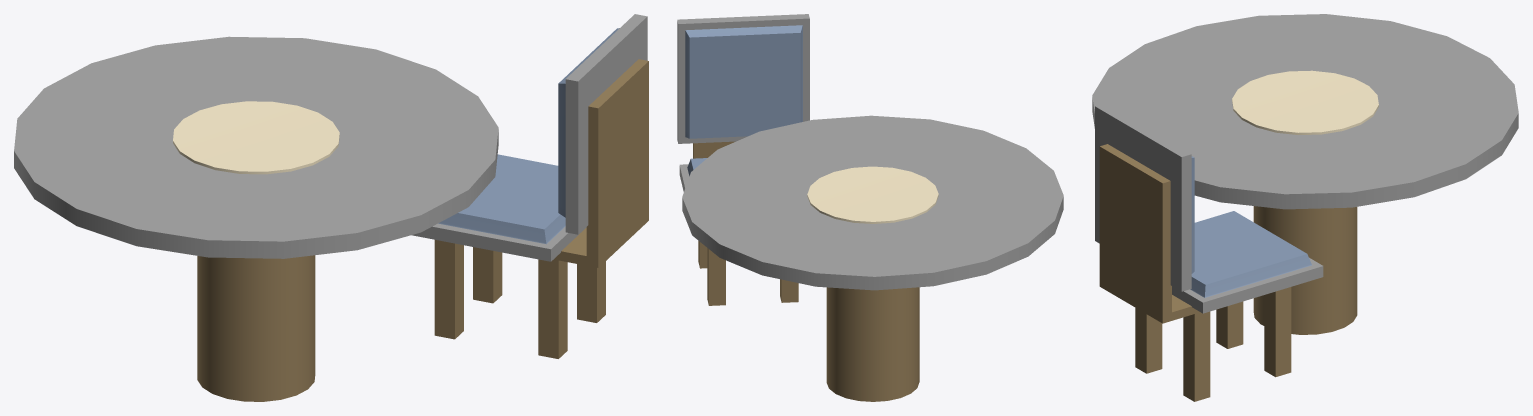
File: M_Silla Comedor.fbx
3 renders of one model, left to right at view 1: azimuth 30°, elevation 25°; view 2: azimuth 150°, elevation 25°; view 3: azimuth 270°, elevation 25°, orthographic. The views are drawn at different scales.
Parts seen in each view (by area): view 1: pCylinder5, pCube38, pCube36, Silla_comedor1, pCube41, pCube42, pCube40, pCube39; view 2: pCylinder5, Silla_comedor1, pCube39, pCube38, pCube42, pCube36; view 3: pCylinder5, pCube38, pCube36, Silla_comedor1, pCube40, pCube39, pCube41, pCube42.
Boxes of the visible parts, <box> form: pCylinder5: <box>14,36,498,401</box>; pCube38: <box>554,59,648,267</box>; pCube36: <box>411,154,586,261</box>; Silla_comedor1: <box>558,14,647,234</box>; pCube41: <box>538,259,567,358</box>; pCube42: <box>434,240,463,339</box>; pCube40: <box>577,261,605,322</box>; pCube39: <box>473,247,502,303</box>; pCylinder5: <box>682,115,1063,401</box>; Silla_comedor1: <box>677,14,809,143</box>; pCube39: <box>707,248,725,305</box>; pCube38: <box>693,141,735,158</box>; pCube42: <box>780,279,798,302</box>; pCube36: <box>679,158,706,191</box>; pCylinder5: <box>1092,14,1518,334</box>; pCube38: <box>1099,144,1199,323</box>; pCube36: <box>1172,211,1323,313</box>; Silla_comedor1: <box>1095,103,1194,291</box>; pCube40: <box>1183,311,1210,401</box>; pCube39: <box>1264,287,1291,377</box>; pCube41: <box>1135,308,1162,373</box>; pCube42: <box>1216,301,1243,348</box>.
Bounding box in the file's own units: 32.61 × 19.62 × 25.82.
